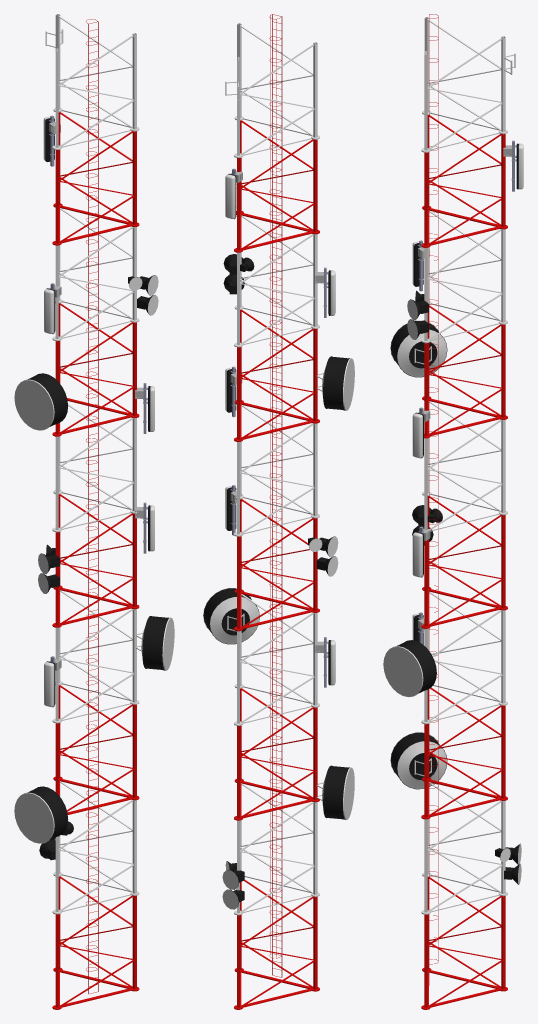
File: radiotower.glb
3 renders of one model, left to right at view 1: azimuth 30°, elevation 25°; view 2: azimuth 150°, elevation 25°; view 3: azimuth 270°, elevation 25°, orthographic.
Visible parts, largest first — view 1: o_radiotower_02; view 2: o_radiotower_02; view 3: o_radiotower_02.
Boxes of the visible parts, <box> form: o_radiotower_02: <box>14,14,174,1009</box>; o_radiotower_02: <box>203,14,354,1009</box>; o_radiotower_02: <box>383,14,523,1009</box>.
Size of the model in its own units: 0.9039 by 5.57 by 0.729.
